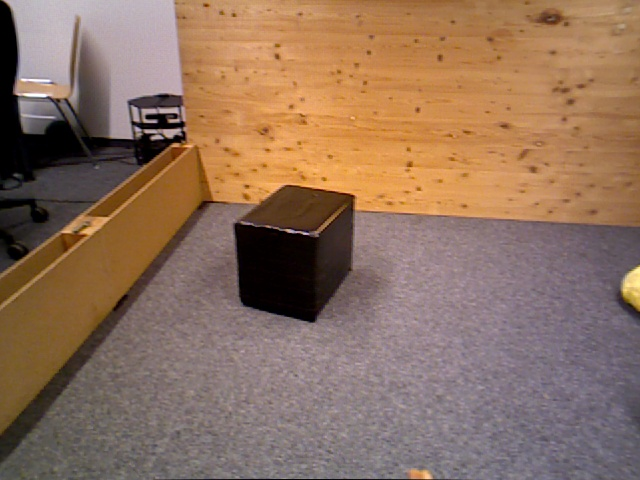grasp: (620, 264, 640, 317)
push: (234, 184, 353, 324)
